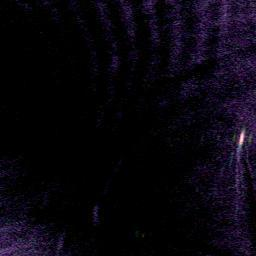Ship: (236, 127, 247, 147)
